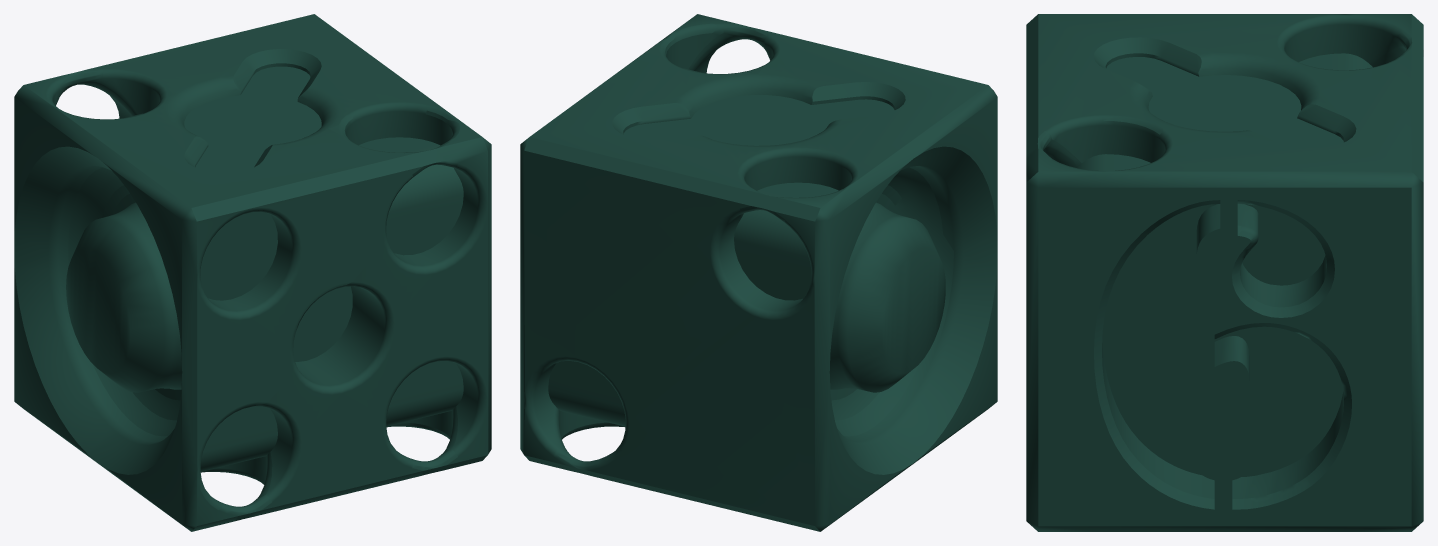
File: dice.glb
3 renders of one model, left to right at view 1: azimuth 30°, elevation 25°; view 2: azimuth 150°, elevation 25°; view 3: azimuth 270°, elevation 25°, orthographic. The views are drawn at different scales.
Parts seen in each view (by area): view 1: Object_6, Object_5, Object_7; view 2: Object_6, Object_5, Object_7; view 3: Object_7, Object_6, Object_5.
Boxes of the visible parts, <box> form: Object_6: <box>14,14,491,531</box>; Object_5: <box>14,84,487,510</box>; Object_7: <box>184,49,487,531</box>; Object_6: <box>520,14,997,531</box>; Object_5: <box>524,39,997,531</box>; Object_7: <box>548,23,905,439</box>; Object_7: <box>1037,37,1411,526</box>; Object_6: <box>1026,14,1423,531</box>; Object_5: <box>1026,14,1423,509</box>.
Size of the model in its own units: 0.1155 by 0.1155 by 0.1155.
